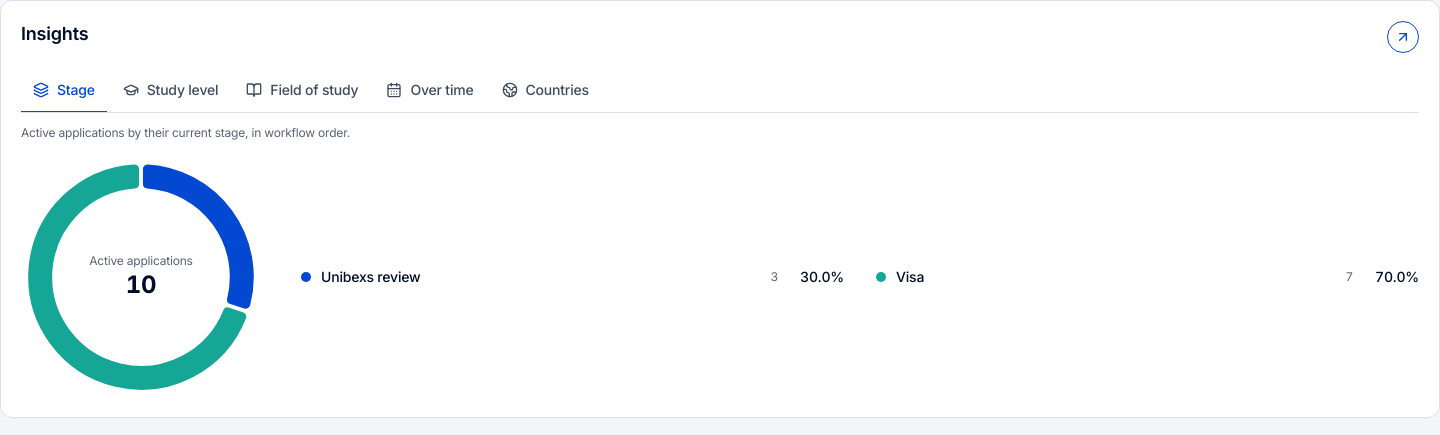
it: Field of study stays a donut even with many fields
Click the tab "Field of study" at {"x": 302, "y": 91}, box [234,69,370,113]
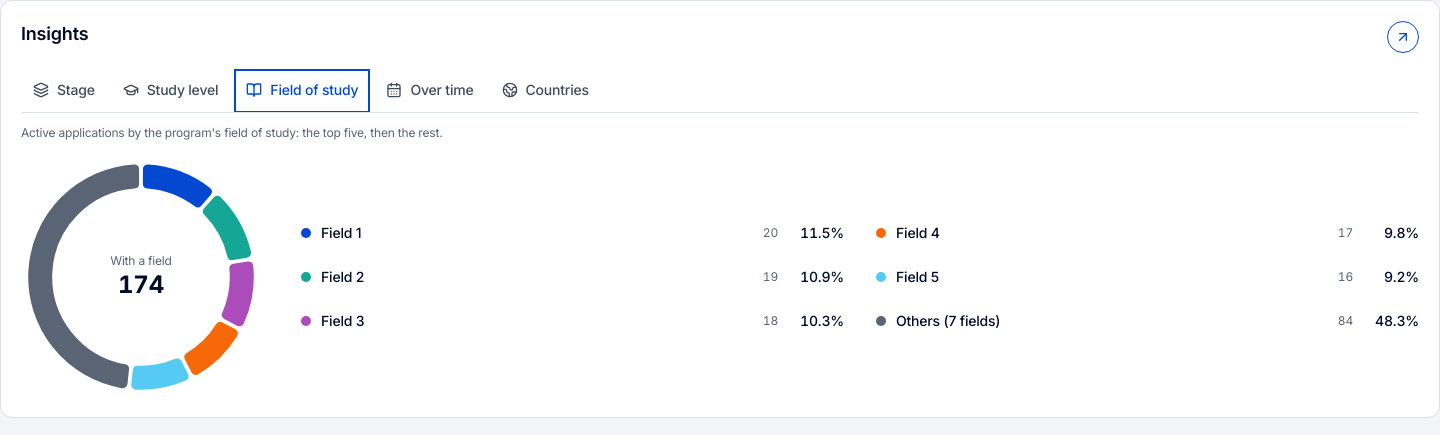
Expected: the picture named "With a field" is shown, [21,157,261,397]
Now the text "Others (7 fields)" is shown, box [896,312,1000,329]
